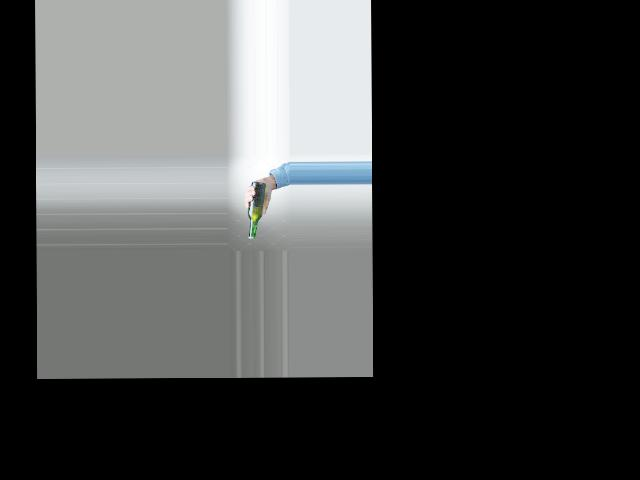beer: (247, 182, 266, 238)
